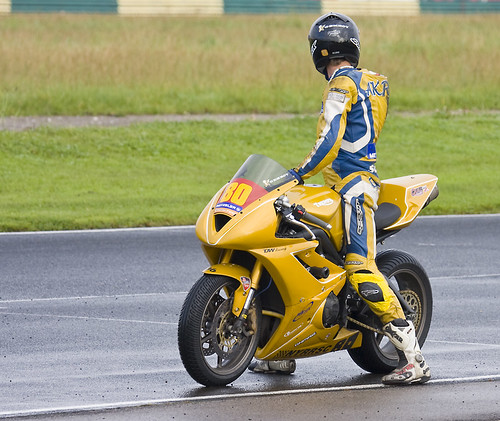helmet: (297, 8, 367, 64)
